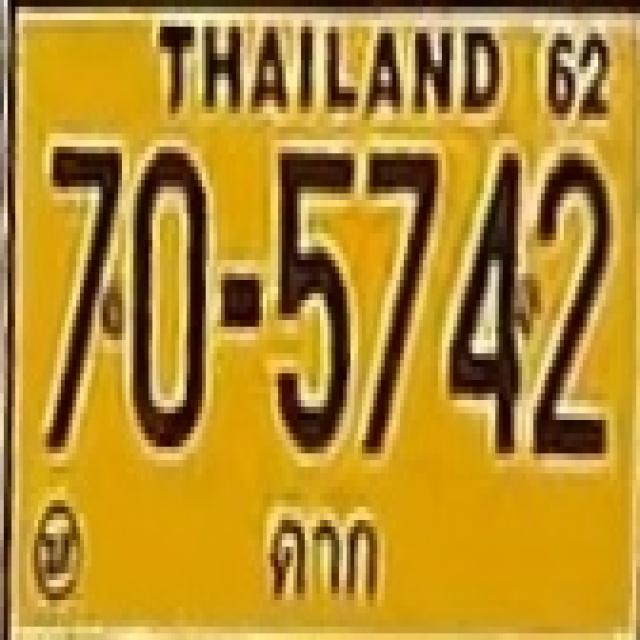0: (129, 144, 202, 444)
2: (532, 147, 608, 453)
4: (446, 146, 518, 446)
5: (274, 146, 350, 446)
7: (46, 140, 118, 447), (362, 146, 434, 446)
TAK: (262, 492, 380, 606)
